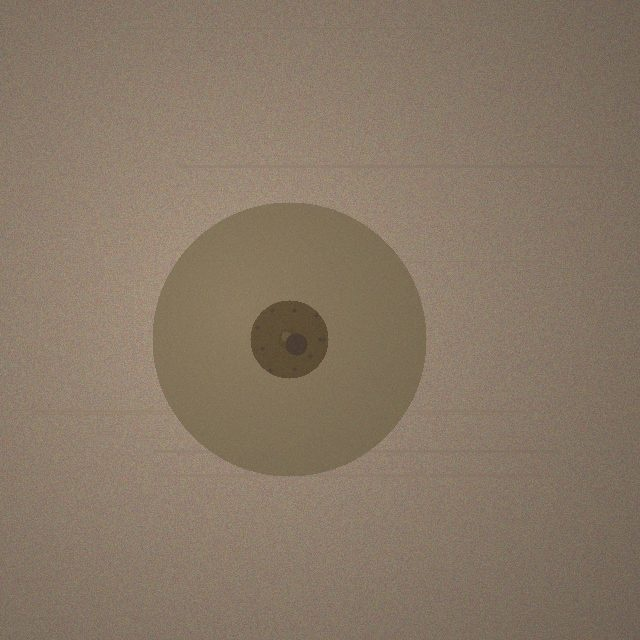cold_weld: (152, 202, 426, 476)
